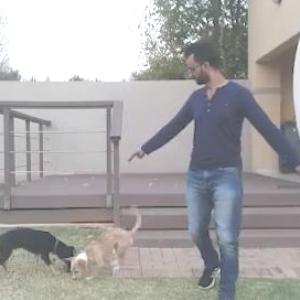land: (126, 44, 299, 291)
